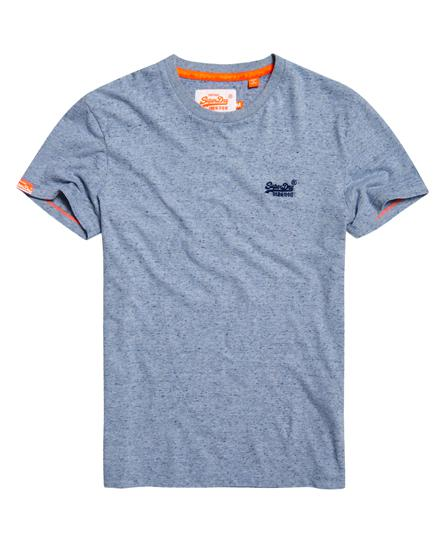teeshirt: (9, 47, 445, 486)
